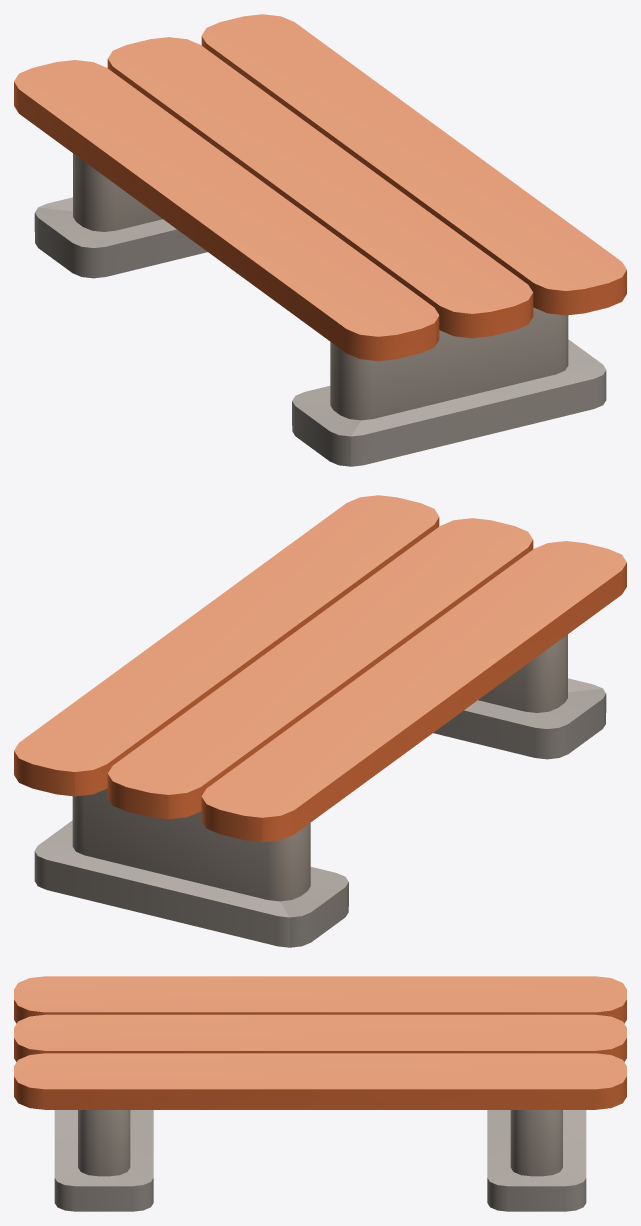
The model's file is Bench.fbx.
The picture shows the model from 3 angles, top to bottom: view 1: azimuth 30°, elevation 25°; view 2: azimuth 150°, elevation 25°; view 3: azimuth 270°, elevation 25°; orthographic projection. The views are drawn at different scales.
Visible parts, largest first — view 1: Cube; view 2: Cube; view 3: Cube.
Boxes of the visible parts, <box> form: Cube: <box>14,14,626,466</box>; Cube: <box>14,495,626,947</box>; Cube: <box>14,976,626,1211</box>.
Bounding box in the file's own units: 297 × 150 × 680.
